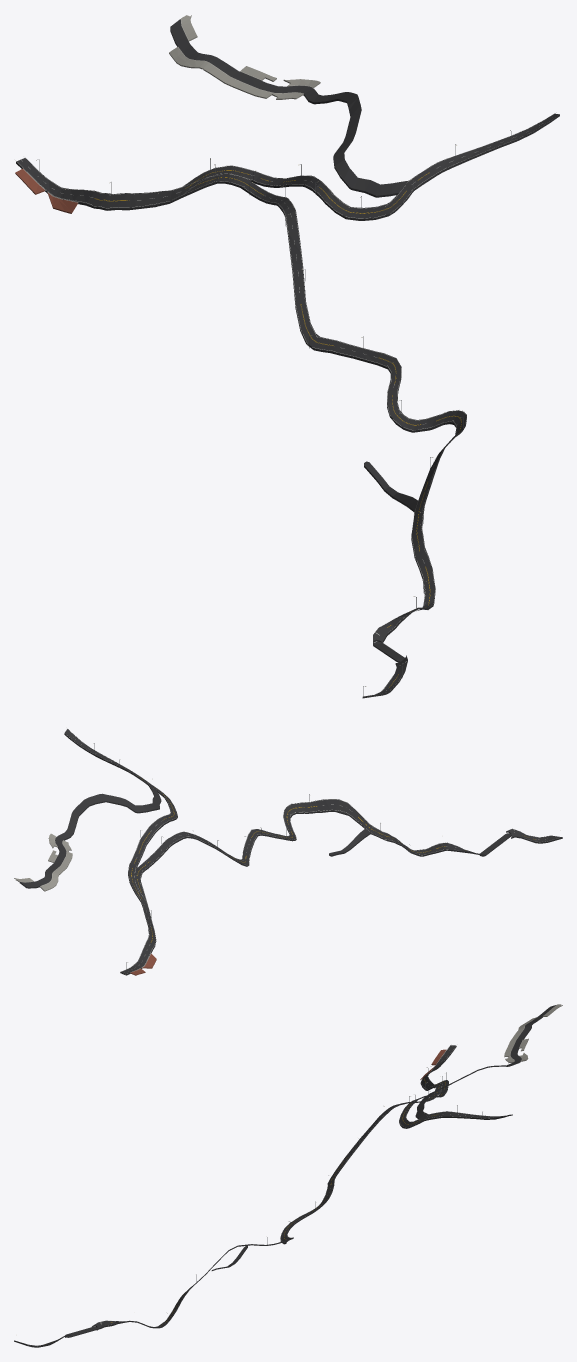
The picture shows the model from 3 angles, top to bottom: view 1: azimuth 30°, elevation 25°; view 2: azimuth 150°, elevation 25°; view 3: azimuth 330°, elevation 25°; orthographic projection. The views are drawn at different scales.
Bounding box in the file's own units: 320 × 170 × 587.
